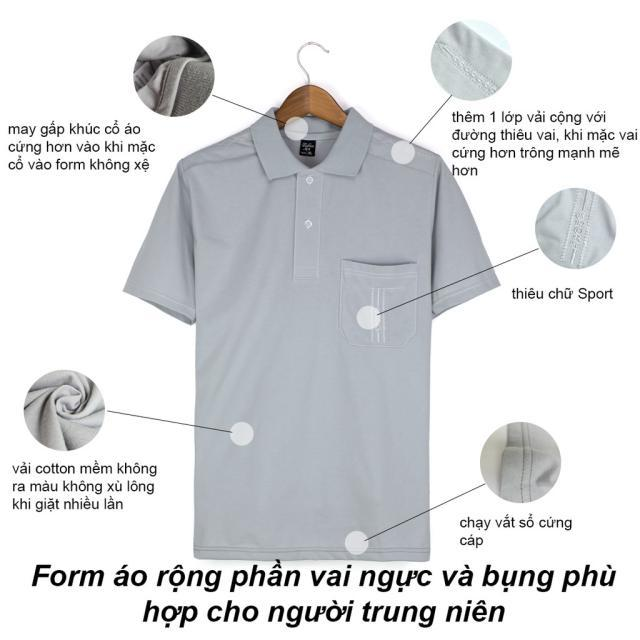Shirt: (115, 106, 508, 562)
